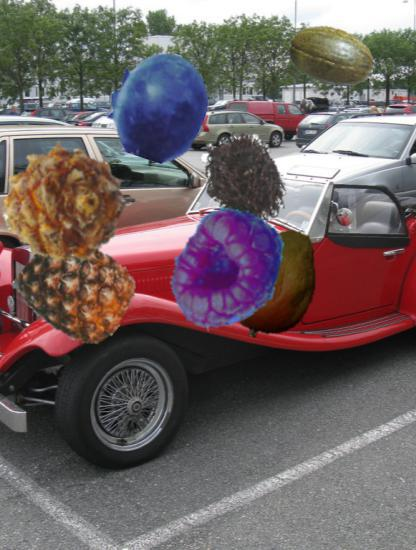Huckleberry: (104, 51, 213, 160)
Melon: (288, 13, 376, 101)
Papaya: (216, 224, 333, 341)
Pineapple: (1, 139, 130, 268), (23, 233, 135, 345)
Rambutan: (191, 123, 301, 233)
Raspberry: (160, 205, 290, 335)
